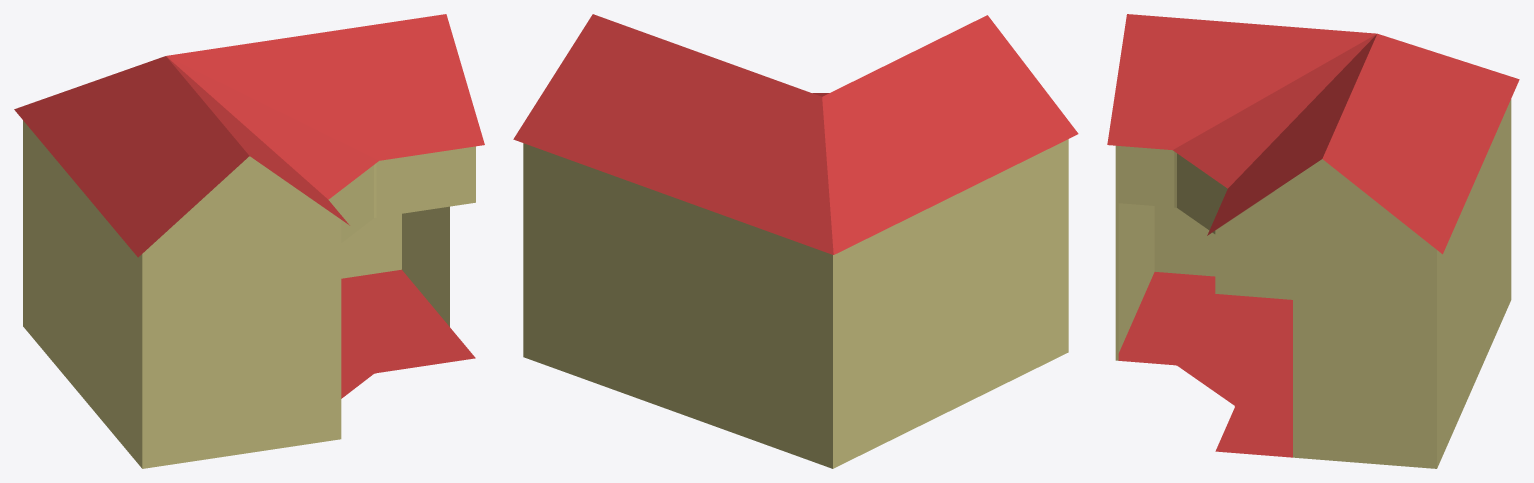
3 renders of one model, left to right at view 1: azimuth 30°, elevation 25°; view 2: azimuth 150°, elevation 25°; view 3: azimuth 270°, elevation 25°, orthographic.
Size of the model in its own units: 16.88 by 14.41 by 11.72.
